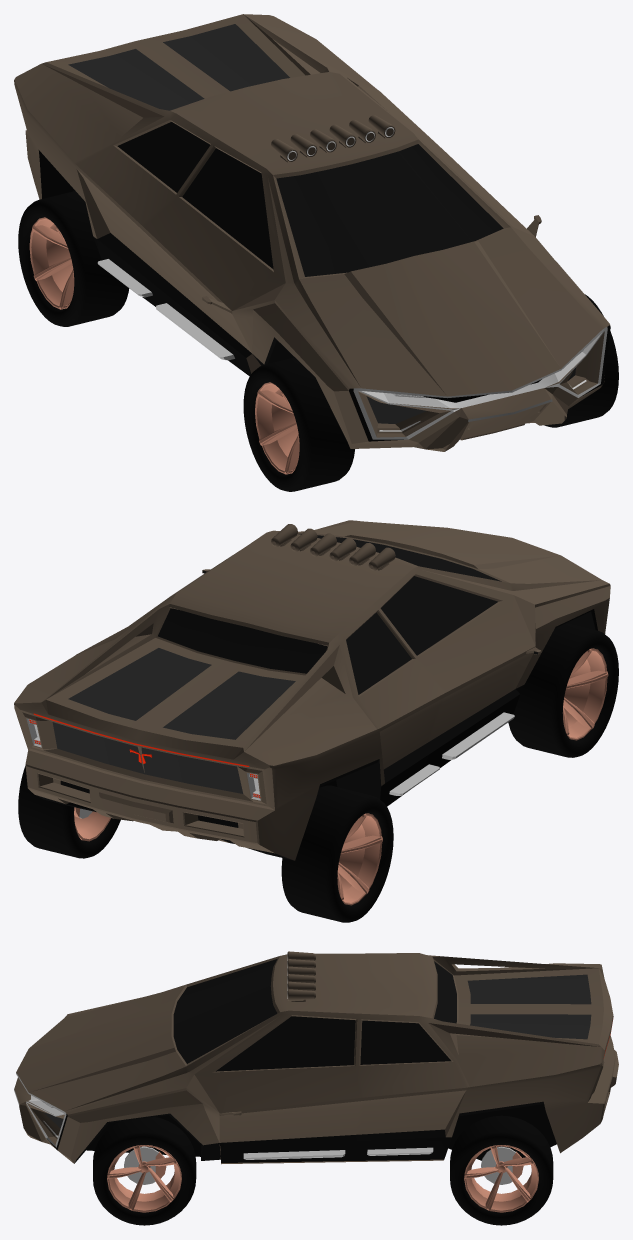
The model's file is Midcar1.fbx.
3 renders of one model, top to bottom at view 1: azimuth 30°, elevation 25°; view 2: azimuth 150°, elevation 25°; view 3: azimuth 270°, elevation 25°, orthographic. The views are drawn at different scales.
Visible parts, largest first — view 1: Body, FR, BR, FL; view 2: Body, BR, FR, BL; view 3: Body, BL, FL.
Part boxes in pixels (left/top/right/bottom): Body: left=14, top=14, right=610, bottom=451; FR: left=243, top=357, right=354, bottom=491; BR: left=18, top=191, right=129, bottom=326; FL: left=544, top=294, right=618, bottom=427; Body: left=14, top=520, right=610, bottom=860; BR: left=281, top=785, right=393, bottom=922; FR: left=508, top=623, right=618, bottom=757; BL: left=18, top=765, right=120, bottom=858; Body: left=14, top=951, right=618, bottom=1184; BL: left=450, top=1115, right=553, bottom=1225; FL: left=93, top=1117, right=196, bottom=1225.
Size of the model in its own units: 4617 by 3242 by 9082.
